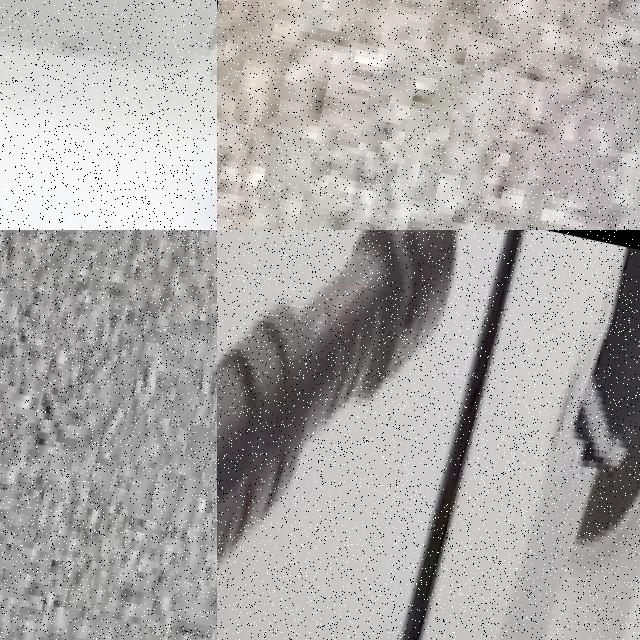drone: (217, 230, 640, 640), (0, 0, 217, 230)
